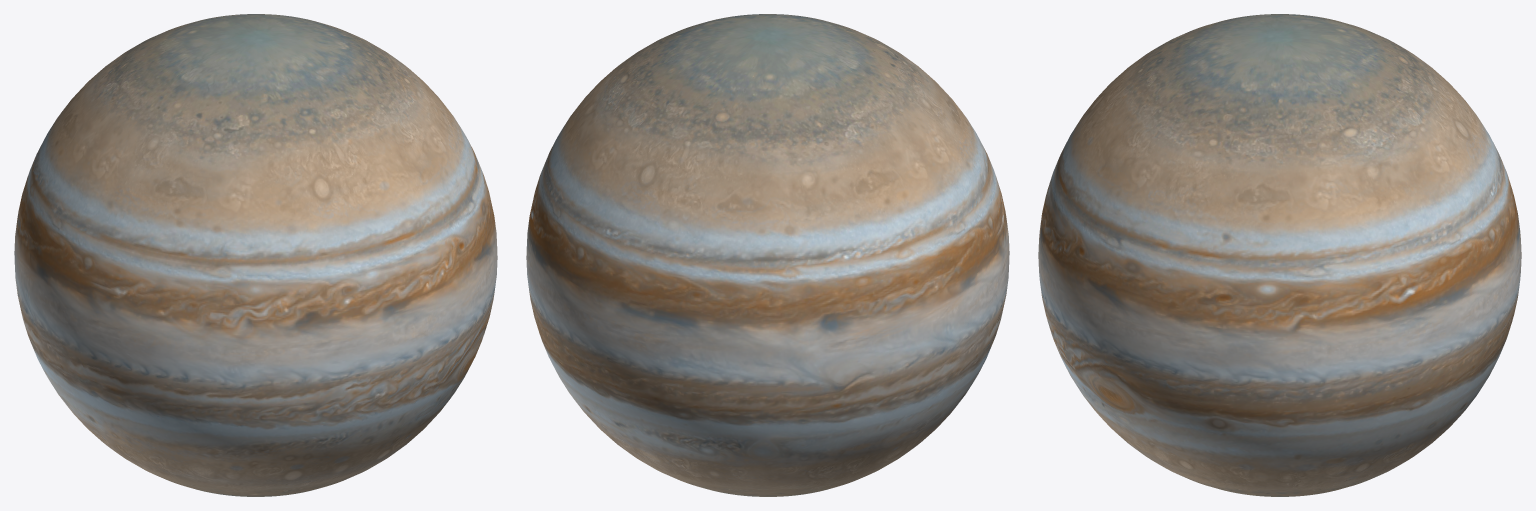
File: Jupiter.glb
3 views of the same model, side by side, from view 1: azimuth 30°, elevation 25°; view 2: azimuth 150°, elevation 25°; view 3: azimuth 270°, elevation 25° (orthographic).
Visible parts, largest first — view 1: Mars; view 2: Mars; view 3: Mars.
Part boxes in pixels (x1=…): Mars: x1=14, y1=14, x2=497, y2=496; Mars: x1=526, y1=14, x2=1009, y2=496; Mars: x1=1038, y1=14, x2=1521, y2=496.
Size of the model in its own units: 12.71 by 12.71 by 12.71.
Materials: 1 (1 with a texture image).
